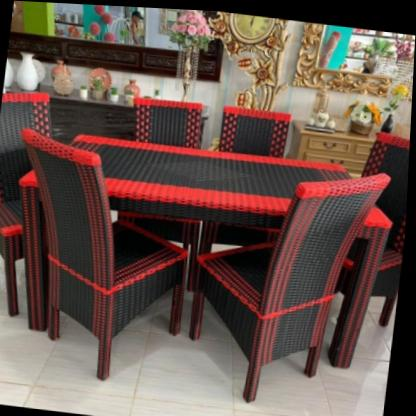Dining Table: (0, 67, 413, 416)
